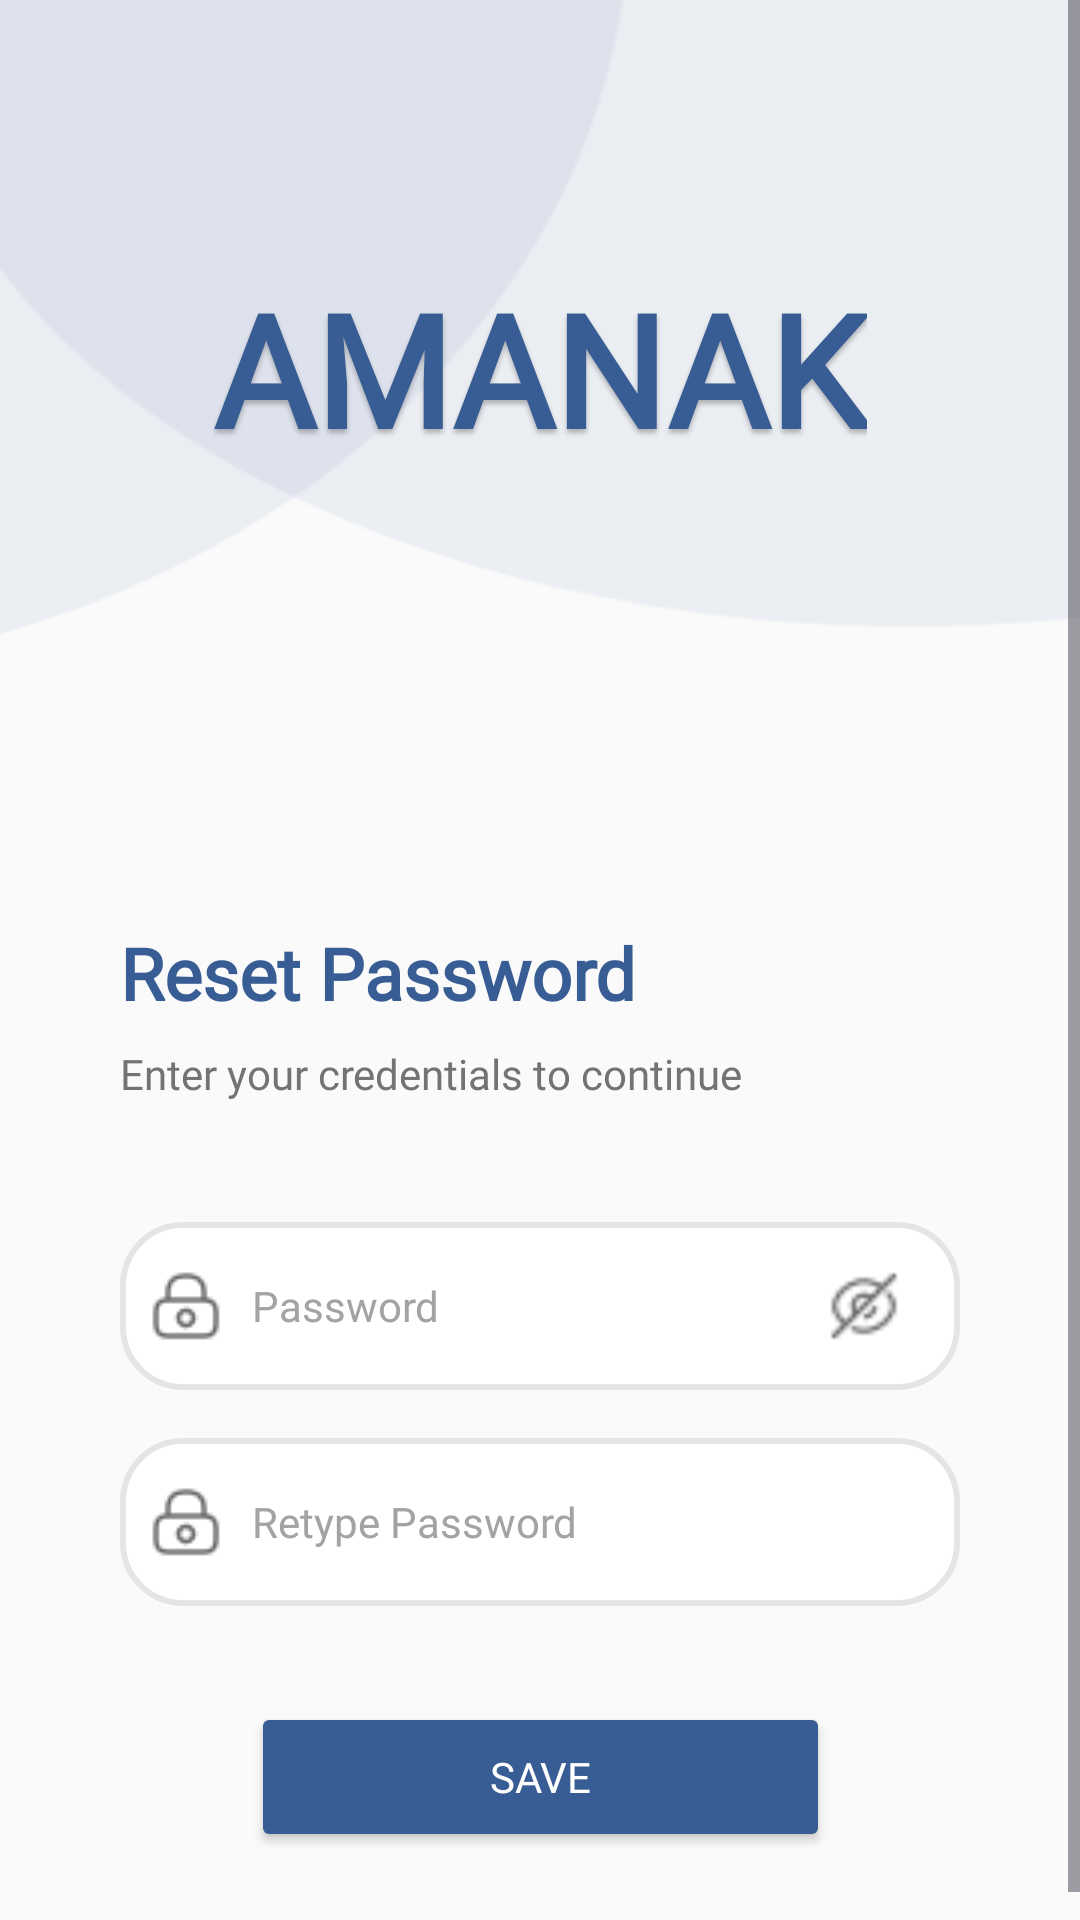

Named icons in this screenshot (1080px×1920px) and their centers, (x,y):
eye: (864,1306)
